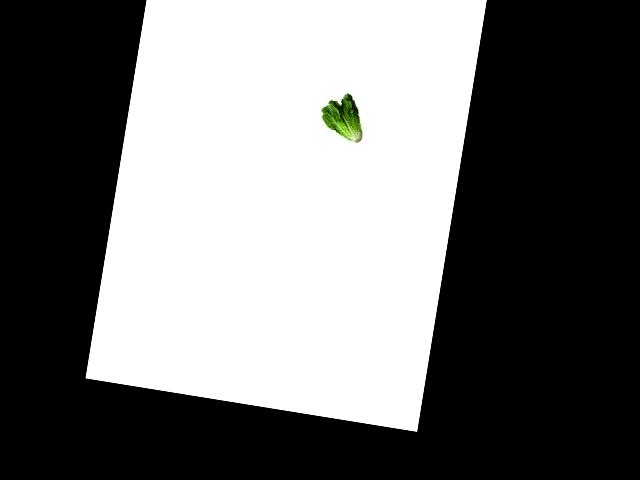lettuce: (311, 89, 369, 145)
